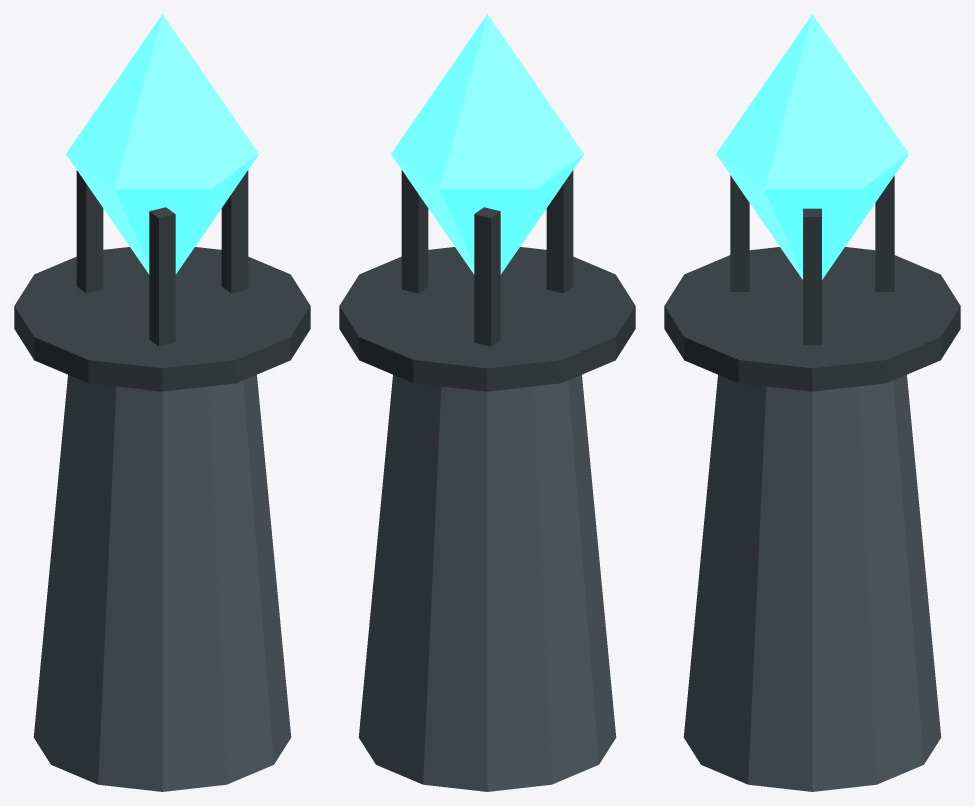
The model's file is lab_memory_fragment_a.glb.
The picture shows the model from 3 angles, left to right: view 1: azimuth 30°, elevation 25°; view 2: azimuth 150°, elevation 25°; view 3: azimuth 270°, elevation 25°; orthographic projection.
Visible parts, largest first — view 1: lab_memory_fragment_a, emit_gem; view 2: lab_memory_fragment_a, emit_gem; view 3: lab_memory_fragment_a, emit_gem.
Part boxes in pixels (x1,y1,x2,y2): lab_memory_fragment_a: (14, 170, 310, 791); emit_gem: (66, 14, 258, 274); lab_memory_fragment_a: (339, 170, 635, 791); emit_gem: (391, 14, 583, 274); lab_memory_fragment_a: (664, 175, 960, 791); emit_gem: (716, 14, 908, 279).
Size of the model in its own units: 0.46 by 1.24 by 0.46.
